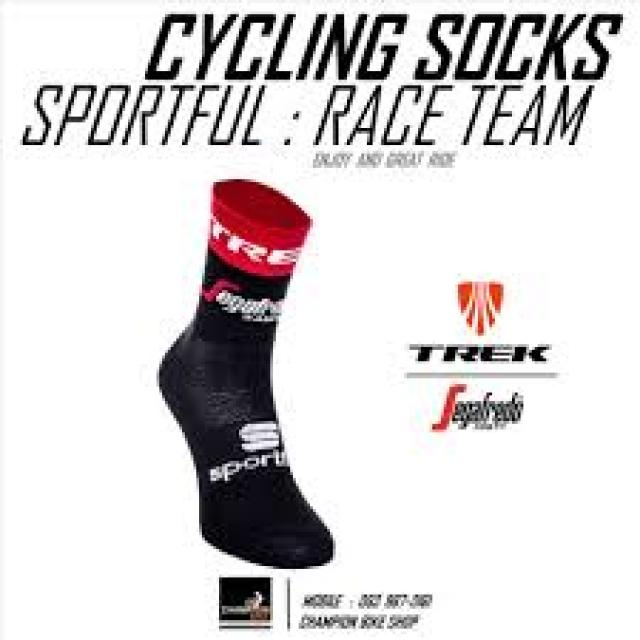sock: (156, 176, 333, 569)
